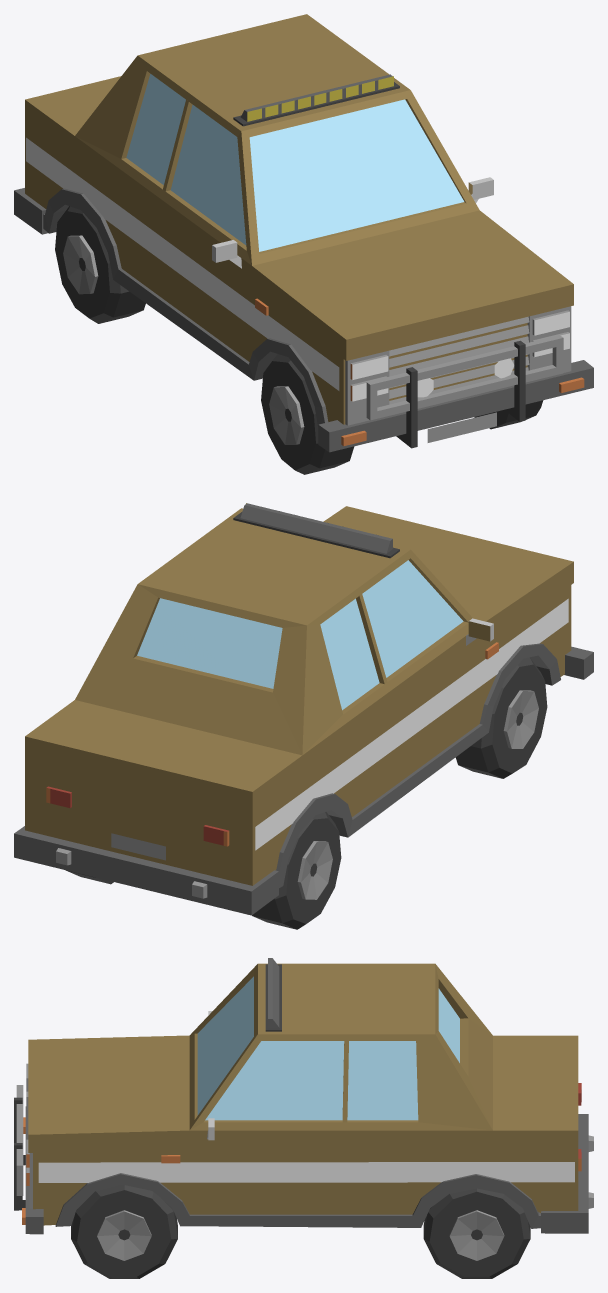
File: transport_jeep_001.fbx
3 renders of one model, top to bottom at view 1: azimuth 30°, elevation 25°; view 2: azimuth 150°, elevation 25°; view 3: azimuth 270°, elevation 25°, orthographic. The views are drawn at different scales.
Parts seen in each view (by area): view 1: transport_jeep_001; view 2: transport_jeep_001; view 3: transport_jeep_001.
Part boxes in pixels (box(x1,y1,x2,y2)): transport_jeep_001: box(14, 14, 593, 474); transport_jeep_001: box(14, 503, 593, 929); transport_jeep_001: box(14, 958, 593, 1278).
Bounding box in the file's own units: 179 × 176 × 377.
